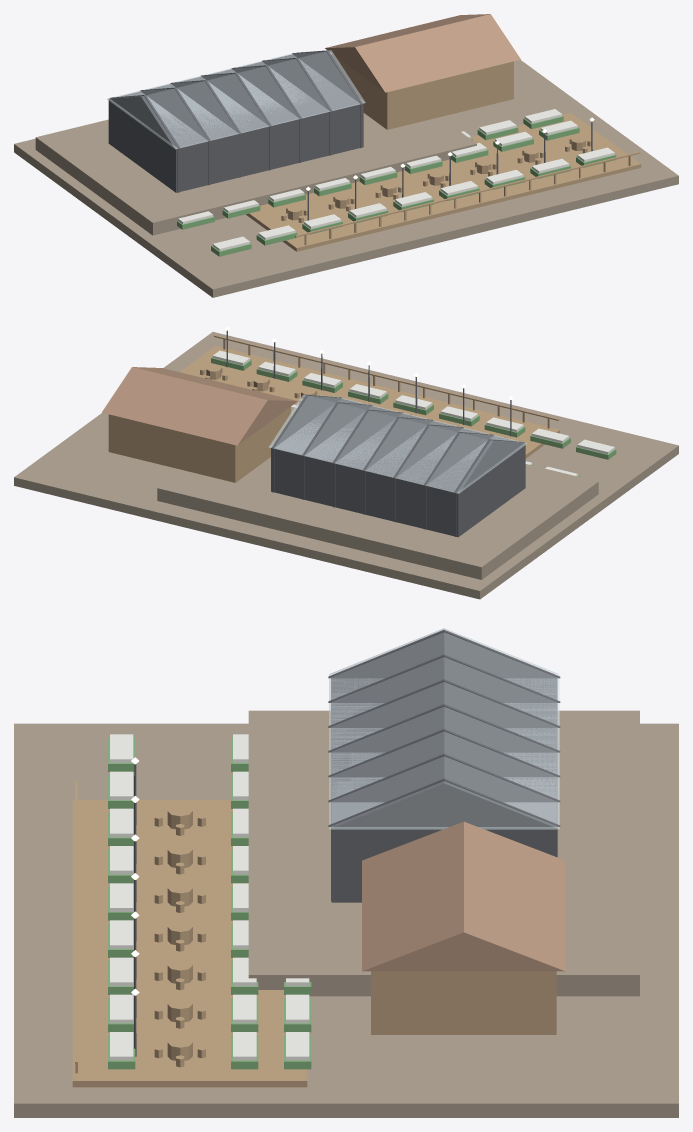
File: lm_46_tui_mo_to_cloud_hunting_glass_cafe_complex.glb
3 views of the same model, one above another, from view 1: azimuth 30°, elevation 25°; view 2: azimuth 150°, elevation 25°; view 3: azimuth 270°, elevation 25° (orthographic). The views are drawn at different scales.
Parts seen in each view (by area): view 1: lm_46_tui_mo_to_cloud_hunting_glass_cafe_complex; view 2: lm_46_tui_mo_to_cloud_hunting_glass_cafe_complex; view 3: lm_46_tui_mo_to_cloud_hunting_glass_cafe_complex.
Boxes of the visible parts, x1,y1,x2,y2 form: lm_46_tui_mo_to_cloud_hunting_glass_cafe_complex: (14, 14, 678, 297); lm_46_tui_mo_to_cloud_hunting_glass_cafe_complex: (14, 326, 678, 599); lm_46_tui_mo_to_cloud_hunting_glass_cafe_complex: (14, 628, 678, 1117).
Bounding box in the file's own units: 46 × 8.85 × 34.
